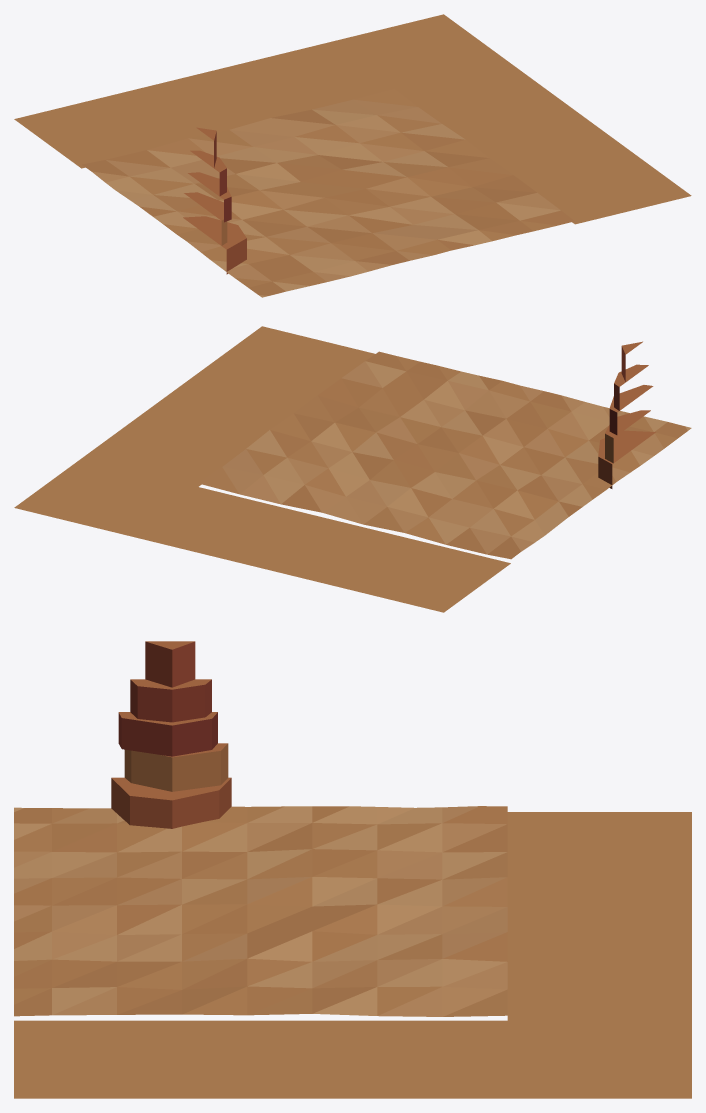
3 renders of one model, top to bottom at view 1: azimuth 30°, elevation 25°; view 2: azimuth 150°, elevation 25°; view 3: azimuth 270°, elevation 25°, orthographic. The views are drawn at different scales.
Visible parts, largest first — view 1: baked; view 2: baked; view 3: baked.
Part boxes in pixels (box(x1,y1,x2,y2)): baked: box(14, 14, 691, 297); baked: box(14, 326, 691, 612); baked: box(14, 641, 691, 1098).
Bounding box in the file's own units: 125 × 34.68 × 125.
